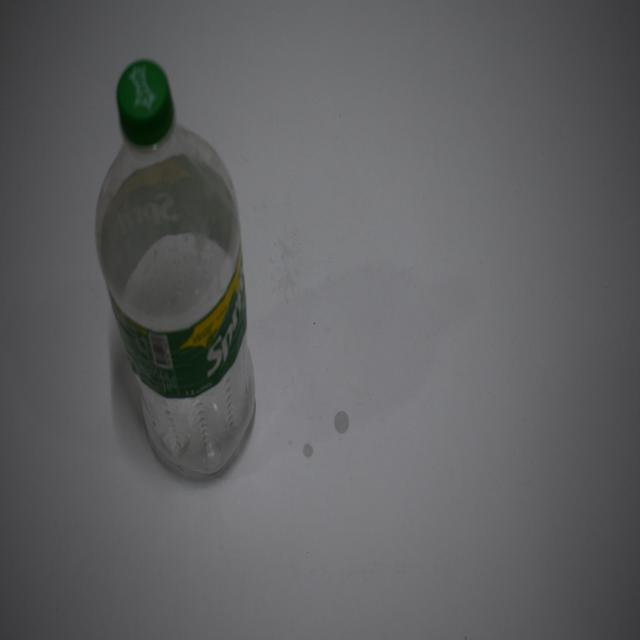bottle: (92, 53, 258, 486)
